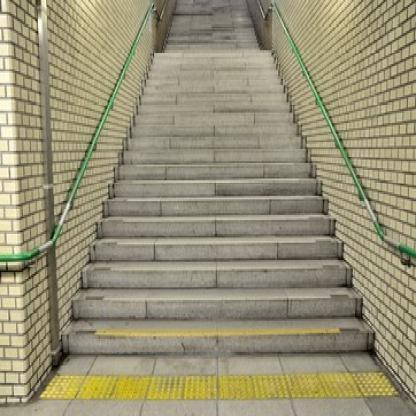podotacti: (0, 300, 416, 411)
